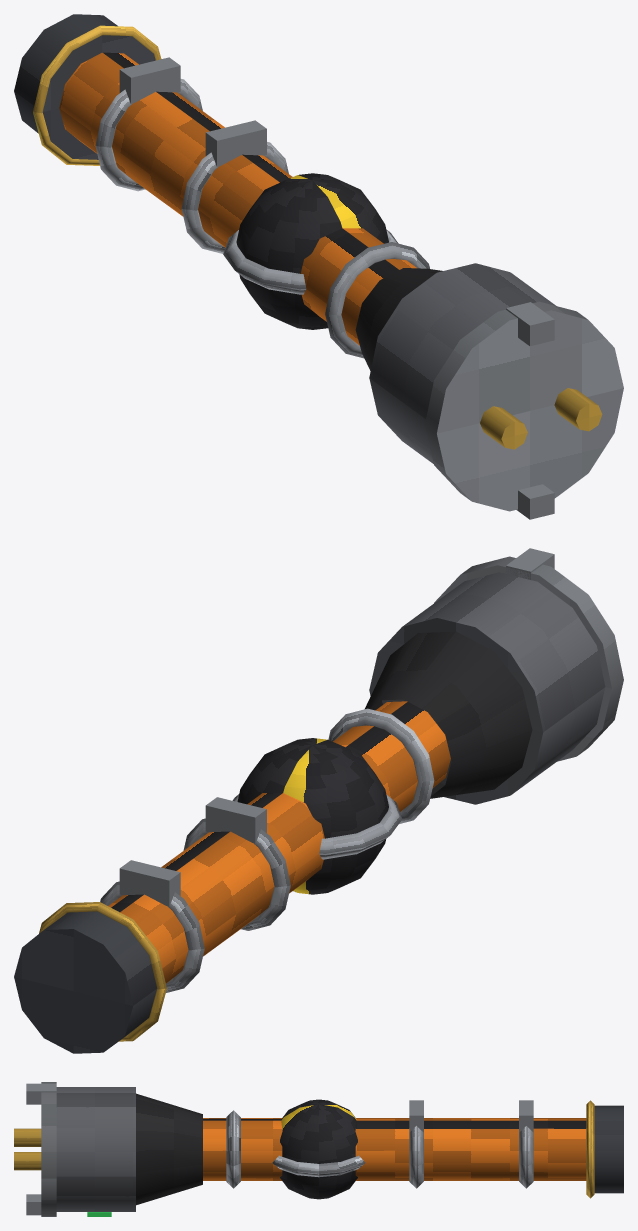
File: power_cable.obj
3 views of the same model, one above another, from view 1: azimuth 30°, elevation 25°; view 2: azimuth 150°, elevation 25°; view 3: azimuth 270°, elevation 25° (orthographic). The views are drawn at different scales.
Size of the model in its own units: 0.226 by 0.224 by 1.
